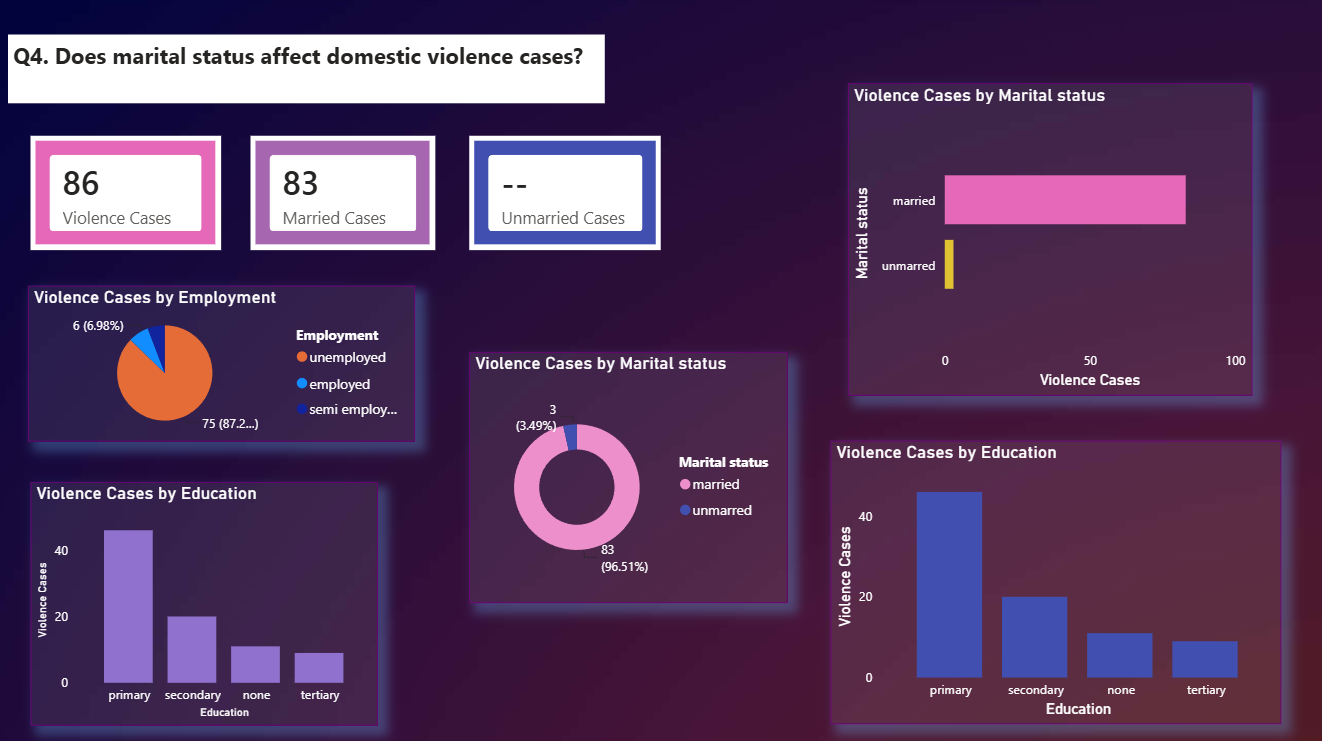

The page's visual inventory and layout, read from the dashboard file:
{"tool":"powerbi","page":{"name":"Page 4","canvas":[1280,720],"ordinal":3},"visuals":[{"type":"textbox","box":[10,36.2,576.2,66.2],"z":1},{"type":"cardVisual","fields":{"Data":["Domestic violence.Violence Cases"]},"box":[31.2,133.8,183.8,110],"z":2},{"type":"cardVisual","fields":{"Data":["Domestic violence.Unmarried Cases"]},"box":[455,133.8,185,110],"z":3},{"type":"cardVisual","fields":{"Data":["Domestic violence.Married Cases"]},"box":[243.8,133.8,178.8,110],"z":4},{"type":"donutChart","fields":{"Category":["Domestic violence.Marital status "],"Y":["Domestic violence.Violence Cases"]},"box":[455,342.5,307.5,242.5],"z":5},{"type":"clusteredBarChart","fields":{"Category":["Domestic violence.Marital status "],"Y":["Domestic violence.Violence Cases"]},"box":[820,83.8,390,301.2],"z":6},{"type":"clusteredColumnChart","fields":{"Category":["Domestic violence.Education "],"Y":["Domestic violence.Violence Cases"]},"box":[803.8,428.8,435,273.8],"z":7},{"type":"clusteredColumnChart","fields":{"Category":["Domestic violence.Education "],"Y":["Domestic violence.Violence Cases"]},"box":[31.2,467.5,335,235],"z":8},{"type":"pieChart","fields":{"Category":["Domestic violence.Employment "],"Y":["Domestic violence.Violence Cases"]},"box":[28.8,278.8,373.8,150],"z":9}]}

Visuals, with their boxes in screenshot pixels (x1, y1, x2, y2), scaled from the page's 1280x720 canvas onto the 1322x741 screenshot:
textbox: {"left": 10, "top": 37, "right": 605, "bottom": 105}
cardVisual - Domestic violence.Violence Cases: {"left": 32, "top": 138, "right": 222, "bottom": 251}
cardVisual - Domestic violence.Unmarried Cases: {"left": 470, "top": 138, "right": 661, "bottom": 251}
cardVisual - Domestic violence.Married Cases: {"left": 252, "top": 138, "right": 436, "bottom": 251}
donutChart - Domestic violence.Marital status  x Domestic violence.Violence Cases: {"left": 470, "top": 352, "right": 788, "bottom": 602}
clusteredBarChart - Domestic violence.Marital status  x Domestic violence.Violence Cases: {"left": 847, "top": 86, "right": 1250, "bottom": 396}
clusteredColumnChart - Domestic violence.Education  x Domestic violence.Violence Cases: {"left": 830, "top": 441, "right": 1279, "bottom": 723}
clusteredColumnChart - Domestic violence.Education  x Domestic violence.Violence Cases: {"left": 32, "top": 481, "right": 378, "bottom": 723}
pieChart - Domestic violence.Employment  x Domestic violence.Violence Cases: {"left": 30, "top": 287, "right": 416, "bottom": 441}
